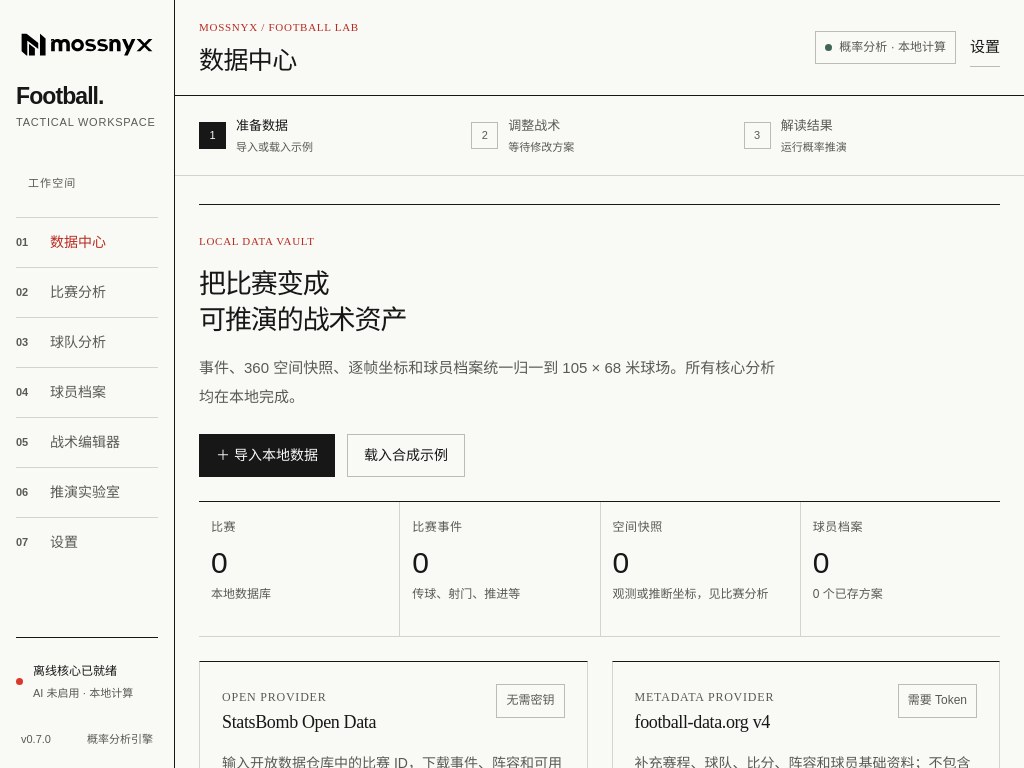
Test: 应用工作流回归 › 本地文件选择/校验期间禁用重复打开和旧预览确认
Click the button "＋ 导入本地数据": (267,456) [199,434,335,478]
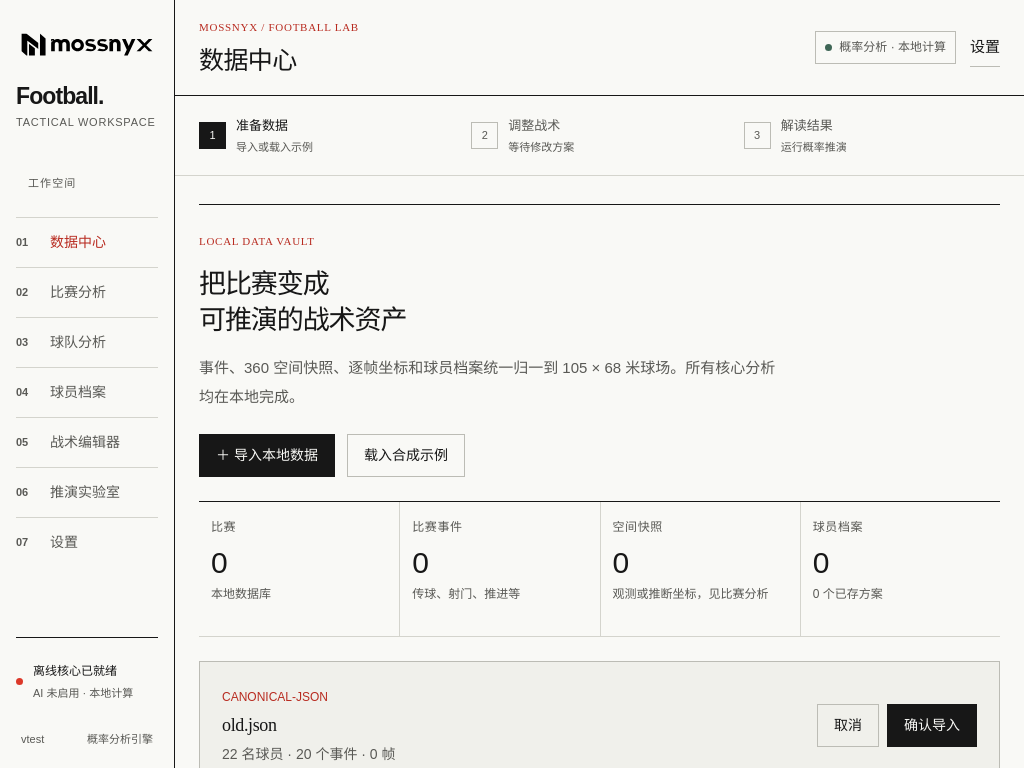
expect the heading "old.json" is shown: met, box [222,715,277,735]
Click the button "＋ 导入本地数据": (267,456) [199,434,335,478]
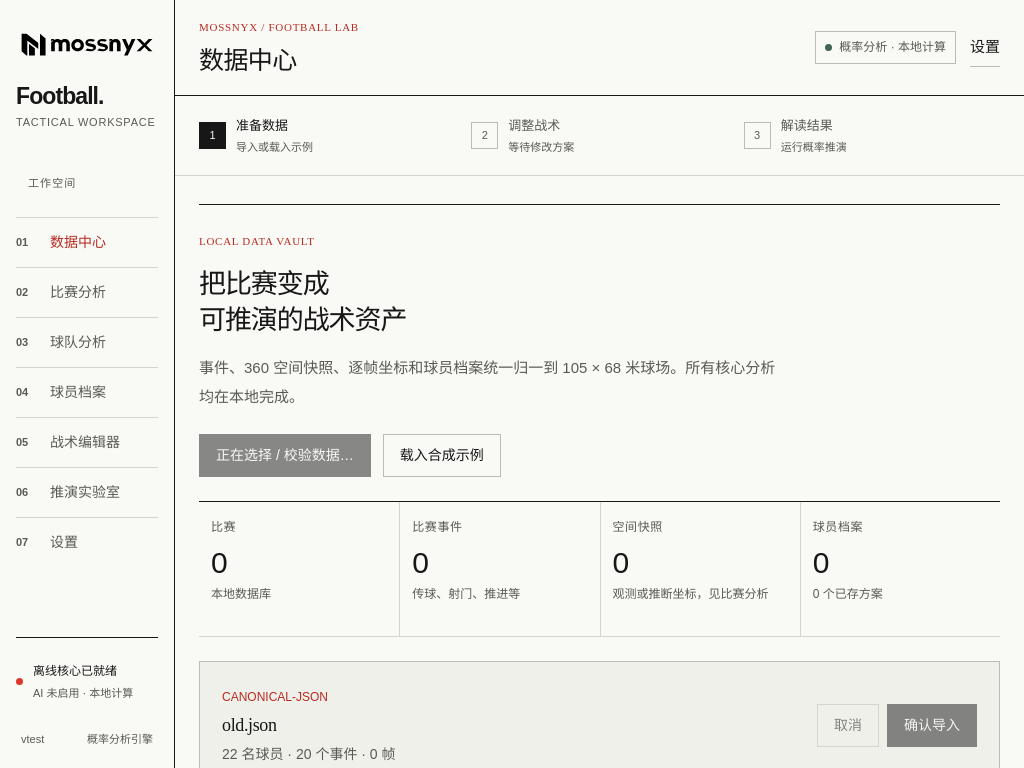
expect the button "正在选择 / 校验数据…" is disabled: met
expect the button "确认导入" is disabled: met, box [887,704,977,748]
Click the button "正在选择 / 校验数据…": (285,456) [199,434,371,478]
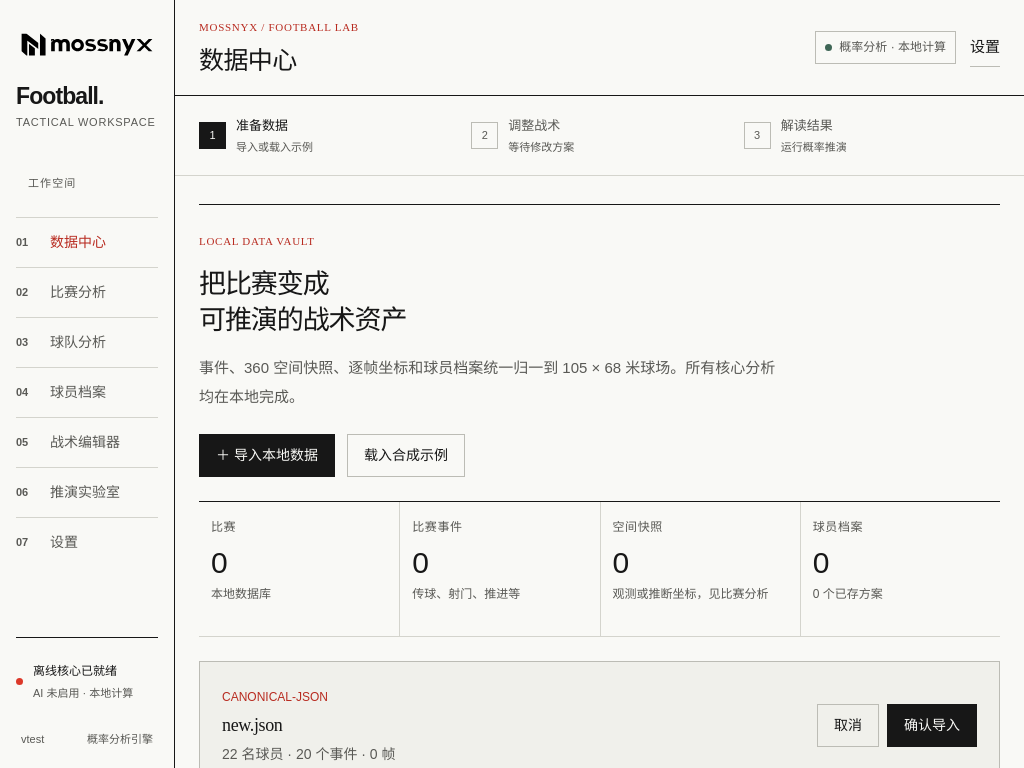
expect the heading "new.json" is shown: met, box [222,715,282,735]
expect the heading "old.json" is gone: met
expect the button "确认导入" is enabled: met, box [887,704,977,748]
